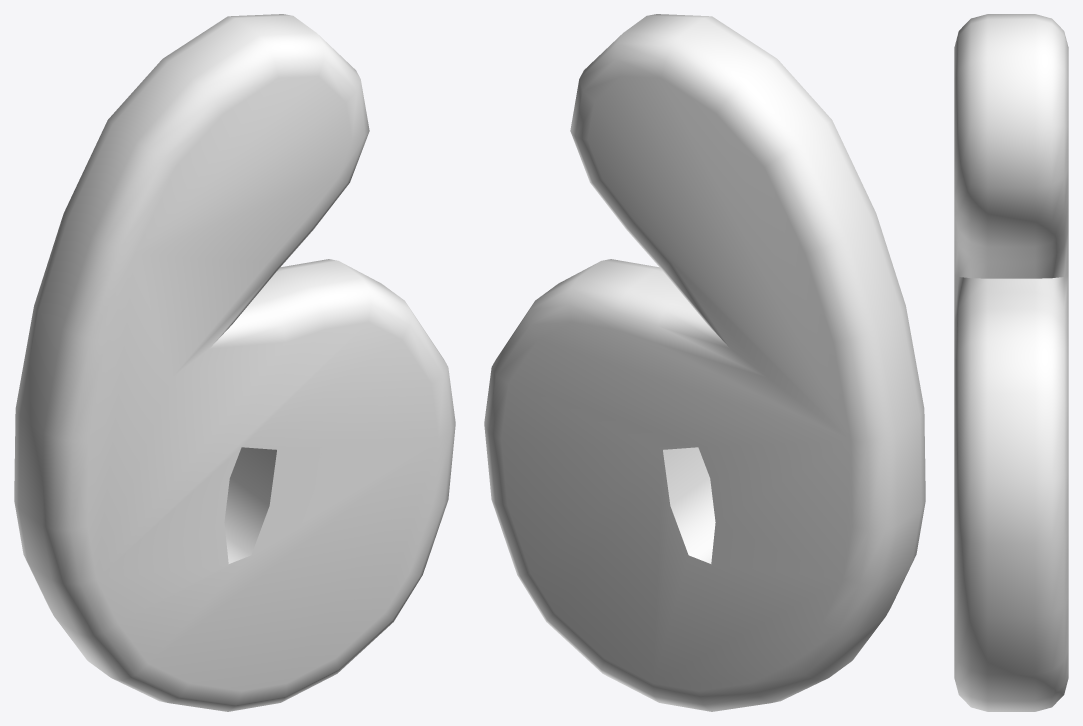
File: NumberSix 1.fbx
3 views of the same model, side by side, from view 1: azimuth 30°, elevation 25°; view 2: azimuth 150°, elevation 25°; view 3: azimuth 270°, elevation 25° (orthographic).
Parts seen in each view (by area): view 1: Vert.008; view 2: Vert.008; view 3: Vert.008.
Part boxes in pixels (<box>): Vert.008: <box>14,14,455,711</box>; Vert.008: <box>484,14,925,711</box>; Vert.008: <box>954,14,1068,711</box>.
Size of the model in its own units: 209 by 326 by 50.18.
